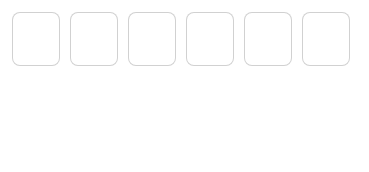
Scenario: OtpInput › fills every box from a paste
This screenshot has width=369, height=172.
Click the field named "Digit 1 of 6": (36, 39) [12,12,60,66]
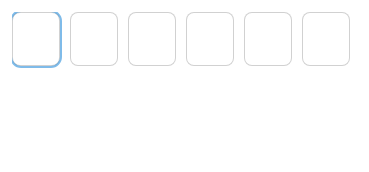
Type keys " 98-76 54 "
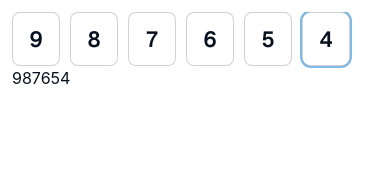
Check: the text with test id "value" reads "987654", box [12,68,70,88]
